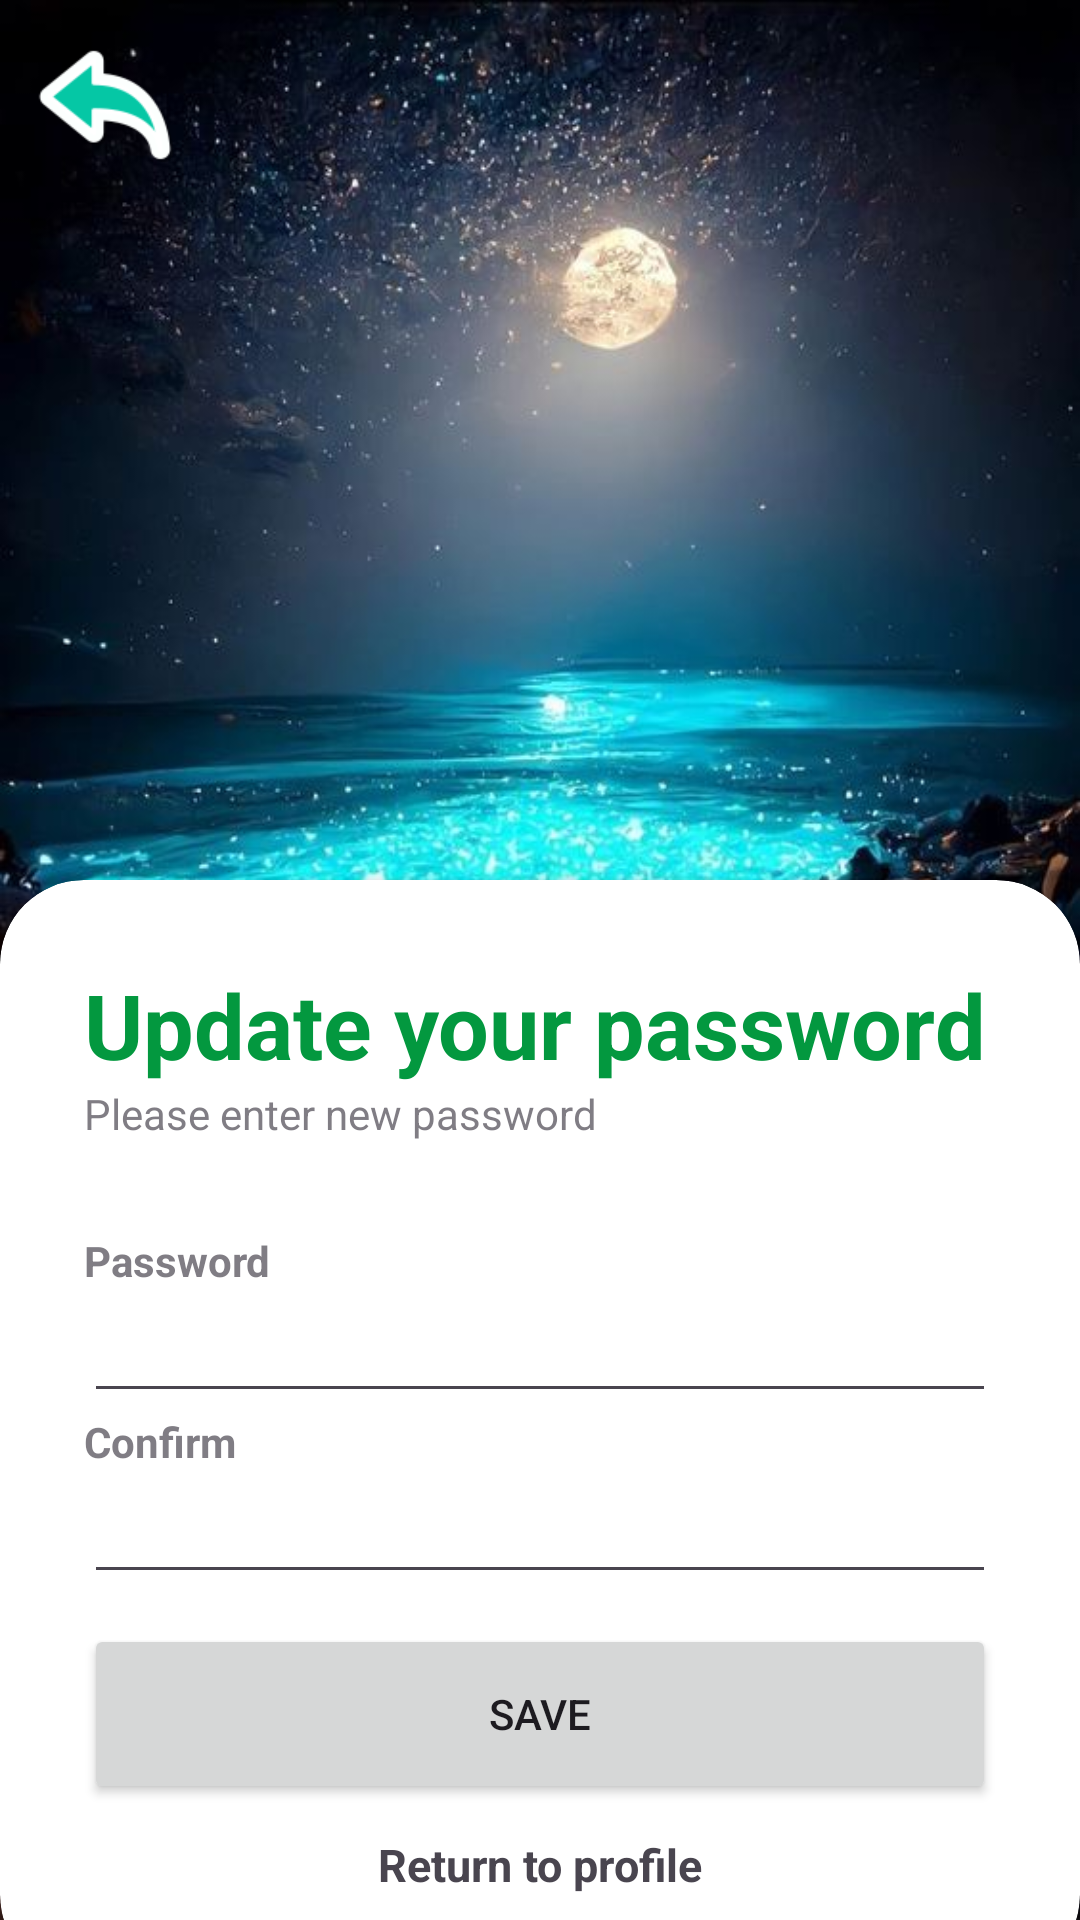

Point at icon controls on the screen. Image size 1080 × 1920, points as (x=x, y=y).
back: (x=109, y=114)
